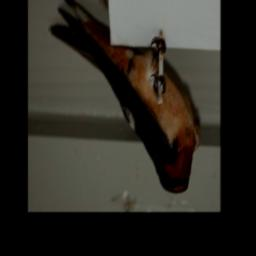Swallow: (32, 0, 195, 195)
